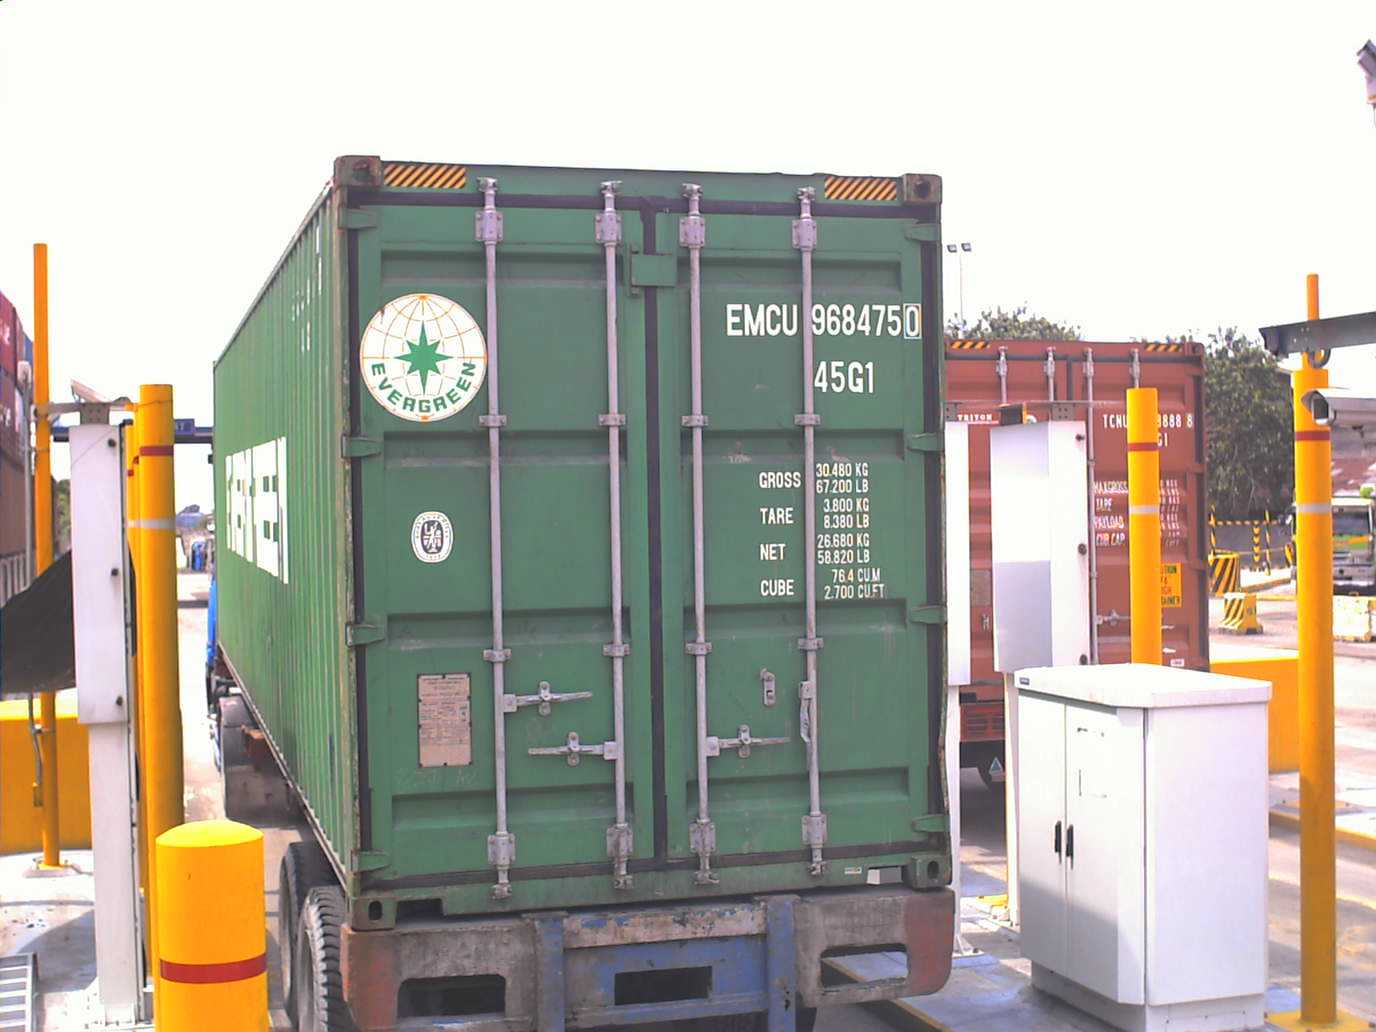container_door: (332, 149, 951, 902)
